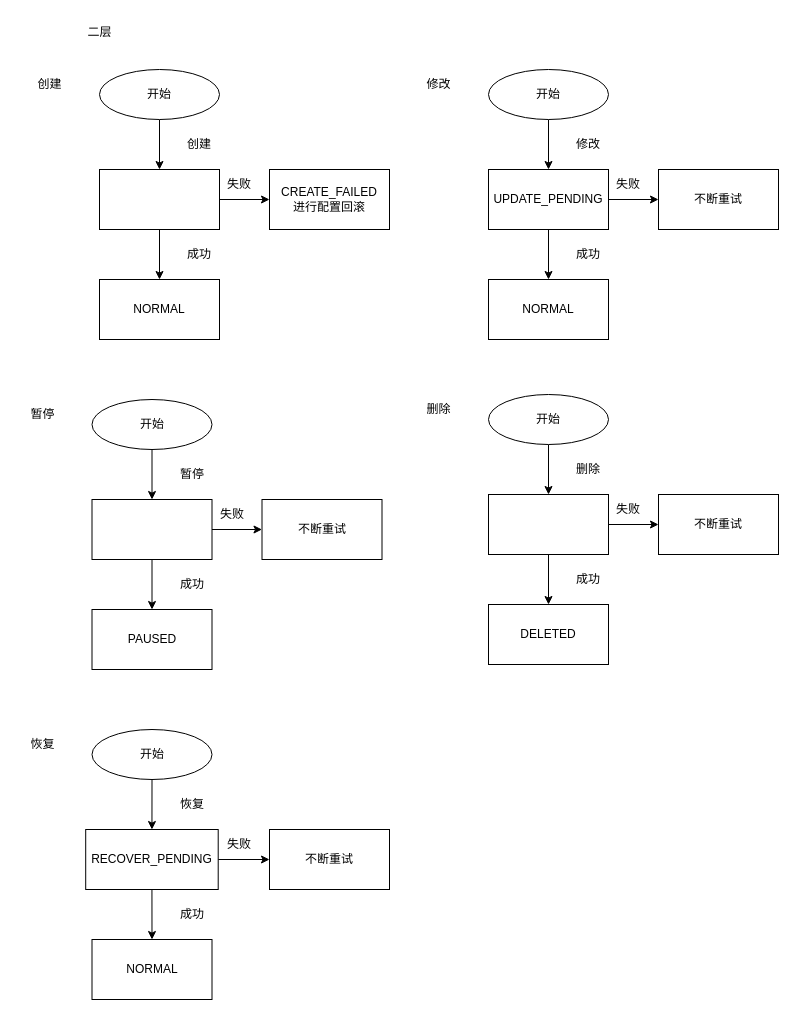
The diagram is 796 pixels wide and 1017 high, and some of its shapes have lost their labels. The centre of each missing label's shape, as x and y in pixels:
"CREATE_PENDING" belongs at [159,199].
"DELETE_PENDING" belongs at [548,524].
"PAUSE_PENDING" belongs at [151,529].
